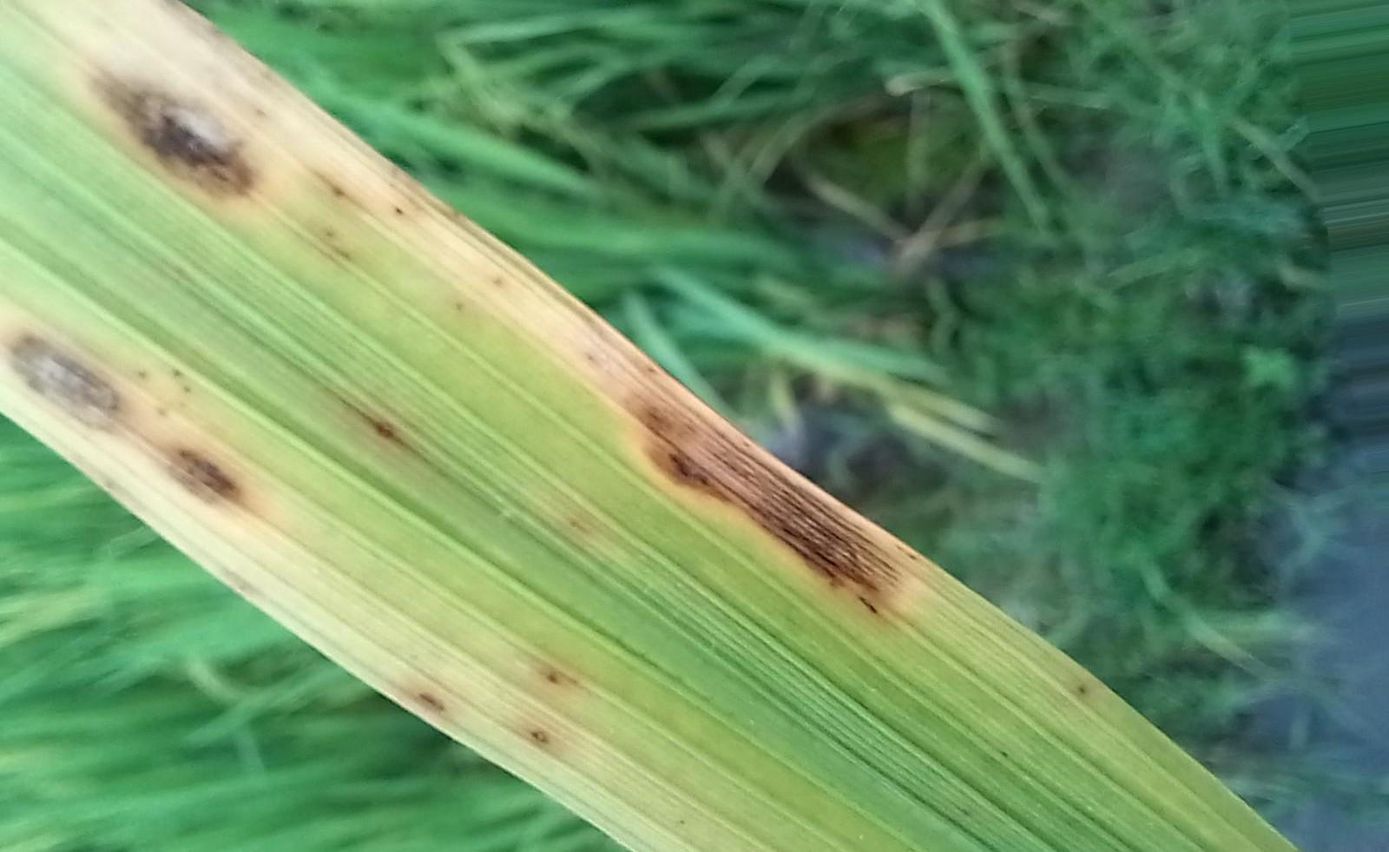LEAF: (0, 0, 1295, 851)
LEAF BLAST: (626, 391, 905, 619), (86, 69, 254, 203), (9, 331, 122, 435), (166, 448, 241, 505)
